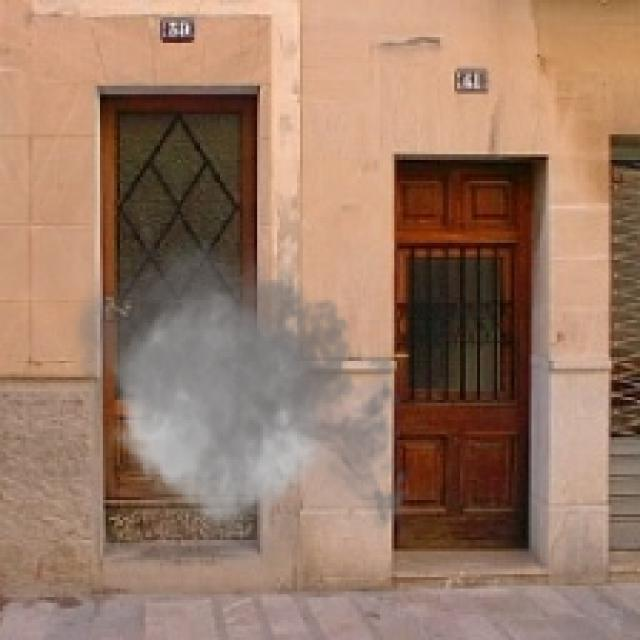Smoke: (60, 222, 420, 588)
